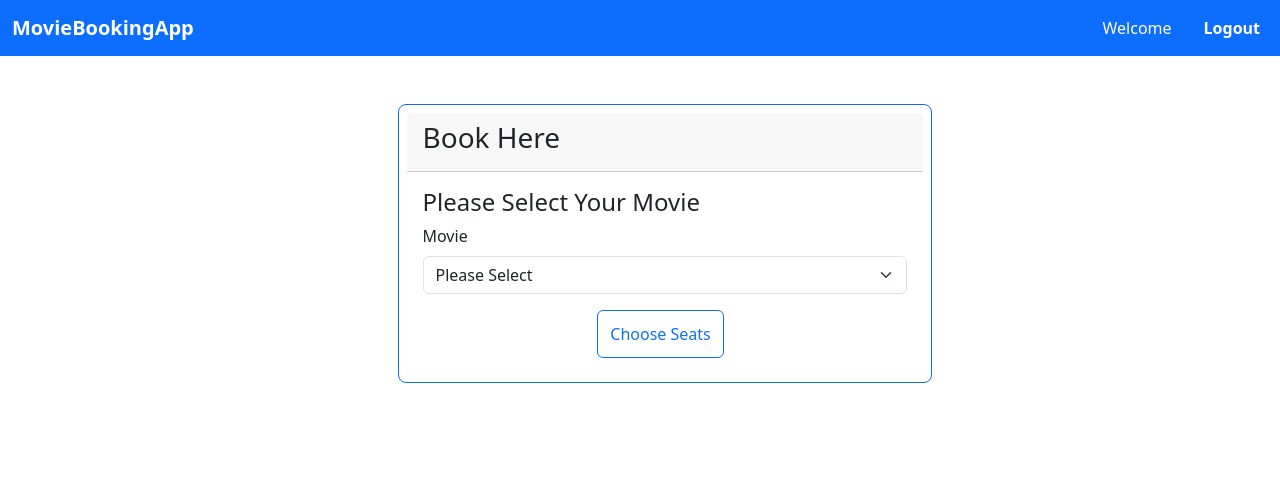
Test: SeatBooking Component › fetches theaters when a movie is selected
# Select a movie
Select "Movie One" in the dropdown labelled "Movie" at (664, 275), box [422, 256, 906, 294]
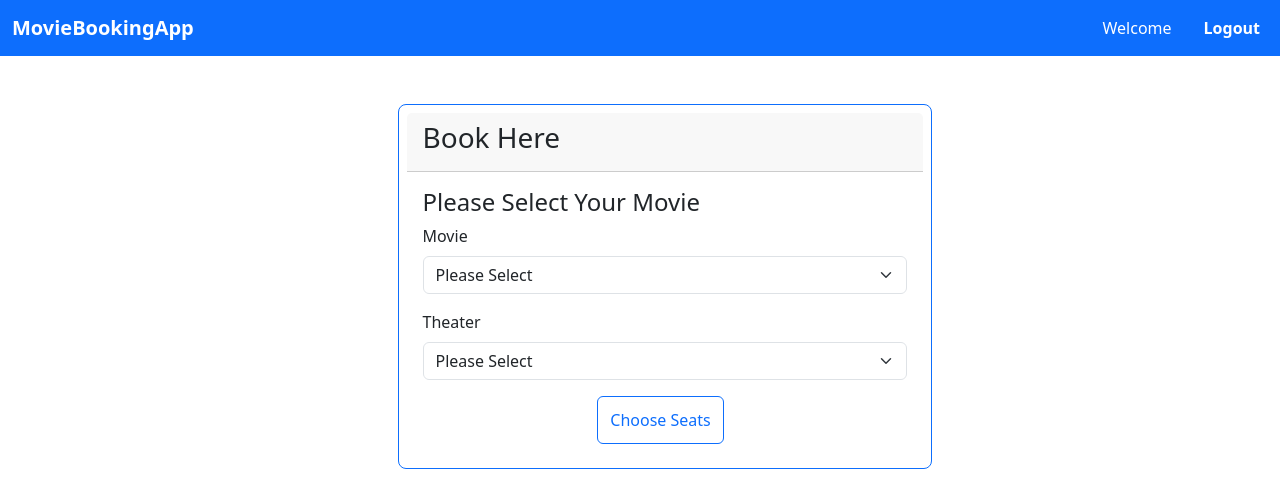
Expected: the dropdown labelled "Theater" is shown, [422, 342, 906, 380]
